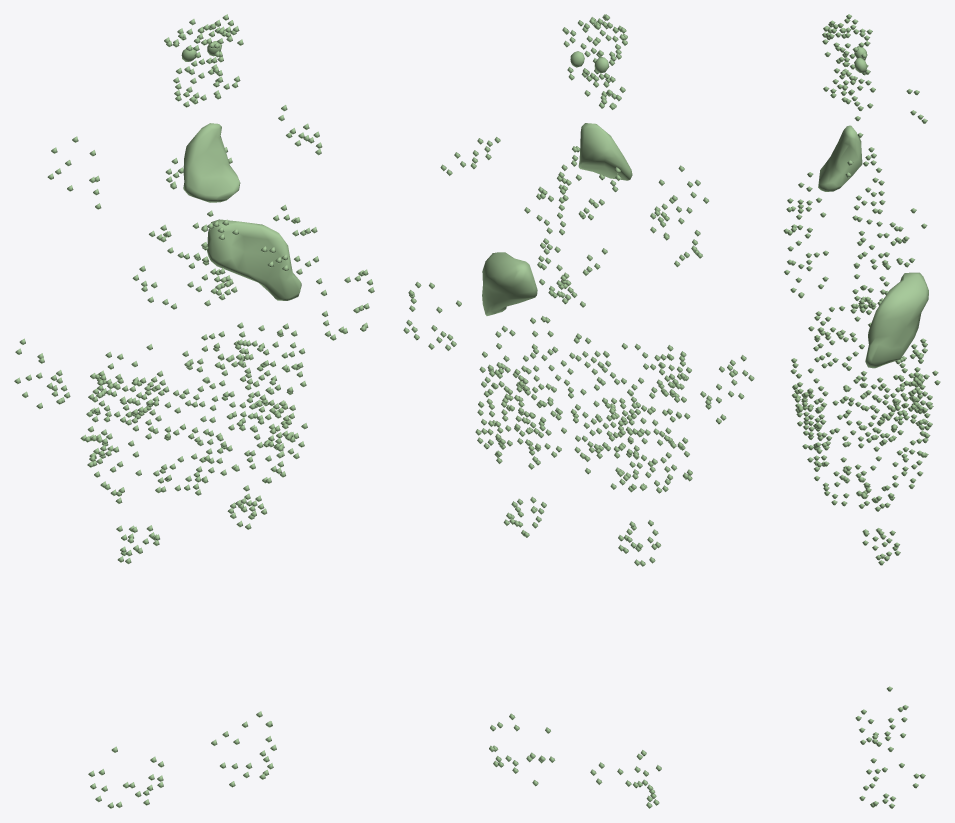
Rendered from pediatric_child_5y_male.lymphatic.LOD2.glb.
3 renders of one model, left to right at view 1: azimuth 30°, elevation 25°; view 2: azimuth 150°, elevation 25°; view 3: azimuth 270°, elevation 25°, orthographic. The views are drawn at different scales.
Parts seen in each view (by area): view 1: PEDIATRIC.CHILD_5Y.MALE.LYMPHATIC.LYMPHATIC_NODES_TRUNK, PEDIATRIC.CHILD_5Y.MALE.LYMPHATIC.SPLEEN, PEDIATRIC.CHILD_5Y.MALE.LYMPHATIC.THYMUS, PEDIATRIC.CHILD_5Y.MALE.LYMPHATIC.LYMPHATIC_NODES_ET, PEDIATRIC.CHILD_5Y.MALE.LYMPHATIC.LYMPHATIC_NODES_THORACIC, PEDIATRIC.CHILD_5Y.MALE.LYMPHATIC.LYMPHATIC_NODES_LEGS, PEDIATRIC.CHILD_5Y.MALE.LYMPHATIC.LYMPHATIC_NODES_ARMS; view 2: PEDIATRIC.CHILD_5Y.MALE.LYMPHATIC.LYMPHATIC_NODES_TRUNK, PEDIATRIC.CHILD_5Y.MALE.LYMPHATIC.SPLEEN, PEDIATRIC.CHILD_5Y.MALE.LYMPHATIC.THYMUS, PEDIATRIC.CHILD_5Y.MALE.LYMPHATIC.LYMPHATIC_NODES_THORACIC, PEDIATRIC.CHILD_5Y.MALE.LYMPHATIC.LYMPHATIC_NODES_ET, PEDIATRIC.CHILD_5Y.MALE.LYMPHATIC.LYMPHATIC_NODES_ARMS, PEDIATRIC.CHILD_5Y.MALE.LYMPHATIC.LYMPHATIC_NODES_LEGS; view 3: PEDIATRIC.CHILD_5Y.MALE.LYMPHATIC.LYMPHATIC_NODES_TRUNK, PEDIATRIC.CHILD_5Y.MALE.LYMPHATIC.SPLEEN, PEDIATRIC.CHILD_5Y.MALE.LYMPHATIC.THYMUS, PEDIATRIC.CHILD_5Y.MALE.LYMPHATIC.LYMPHATIC_NODES_ET, PEDIATRIC.CHILD_5Y.MALE.LYMPHATIC.LYMPHATIC_NODES_THORACIC, PEDIATRIC.CHILD_5Y.MALE.LYMPHATIC.LYMPHATIC_NODES_LEGS, PEDIATRIC.CHILD_5Y.MALE.LYMPHATIC.LYMPHATIC_NODES_ARMS, PEDIATRIC.CHILD_5Y.MALE.LYMPHATIC.LYMPHATIC_NODES_HEAD.
Boxes of the visible parts, x1,y1,x2,y2 form: PEDIATRIC.CHILD_5Y.MALE.LYMPHATIC.LYMPHATIC_NODES_TRUNK: (47, 105, 322, 564); PEDIATRIC.CHILD_5Y.MALE.LYMPHATIC.SPLEEN: (207, 219, 301, 300); PEDIATRIC.CHILD_5Y.MALE.LYMPHATIC.THYMUS: (183, 123, 240, 202); PEDIATRIC.CHILD_5Y.MALE.LYMPHATIC.LYMPHATIC_NODES_ET: (164, 14, 243, 87); PEDIATRIC.CHILD_5Y.MALE.LYMPHATIC.LYMPHATIC_NODES_THORACIC: (149, 147, 238, 306); PEDIATRIC.CHILD_5Y.MALE.LYMPHATIC.LYMPHATIC_NODES_LEGS: (88, 711, 276, 808); PEDIATRIC.CHILD_5Y.MALE.LYMPHATIC.LYMPHATIC_NODES_ARMS: (14, 269, 374, 409); PEDIATRIC.CHILD_5Y.MALE.LYMPHATIC.LYMPHATIC_NODES_TRUNK: (440, 137, 709, 566); PEDIATRIC.CHILD_5Y.MALE.LYMPHATIC.SPLEEN: (482, 252, 537, 315); PEDIATRIC.CHILD_5Y.MALE.LYMPHATIC.THYMUS: (578, 123, 632, 180); PEDIATRIC.CHILD_5Y.MALE.LYMPHATIC.LYMPHATIC_NODES_THORACIC: (537, 146, 621, 307); PEDIATRIC.CHILD_5Y.MALE.LYMPHATIC.LYMPHATIC_NODES_ET: (562, 14, 627, 87); PEDIATRIC.CHILD_5Y.MALE.LYMPHATIC.LYMPHATIC_NODES_ARMS: (403, 281, 754, 424); PEDIATRIC.CHILD_5Y.MALE.LYMPHATIC.LYMPHATIC_NODES_LEGS: (489, 713, 661, 808); PEDIATRIC.CHILD_5Y.MALE.LYMPHATIC.LYMPHATIC_NODES_TRUNK: (783, 87, 940, 565); PEDIATRIC.CHILD_5Y.MALE.LYMPHATIC.SPLEEN: (865, 272, 928, 368); PEDIATRIC.CHILD_5Y.MALE.LYMPHATIC.THYMUS: (818, 125, 862, 191); PEDIATRIC.CHILD_5Y.MALE.LYMPHATIC.LYMPHATIC_NODES_ET: (822, 14, 872, 90); PEDIATRIC.CHILD_5Y.MALE.LYMPHATIC.LYMPHATIC_NODES_THORACIC: (845, 147, 914, 313); PEDIATRIC.CHILD_5Y.MALE.LYMPHATIC.LYMPHATIC_NODES_LEGS: (855, 686, 925, 808); PEDIATRIC.CHILD_5Y.MALE.LYMPHATIC.LYMPHATIC_NODES_ARMS: (852, 239, 901, 451); PEDIATRIC.CHILD_5Y.MALE.LYMPHATIC.LYMPHATIC_NODES_HEAD: (823, 65, 871, 104).
Size of the model in its own units: 0.3377 by 0.7275 by 0.1361.
